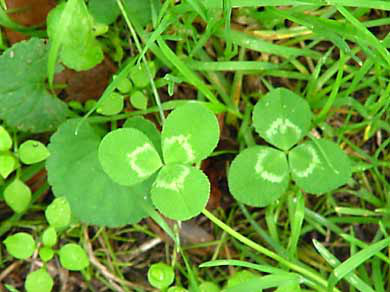clover: (227, 86, 351, 208), (98, 100, 219, 221)
